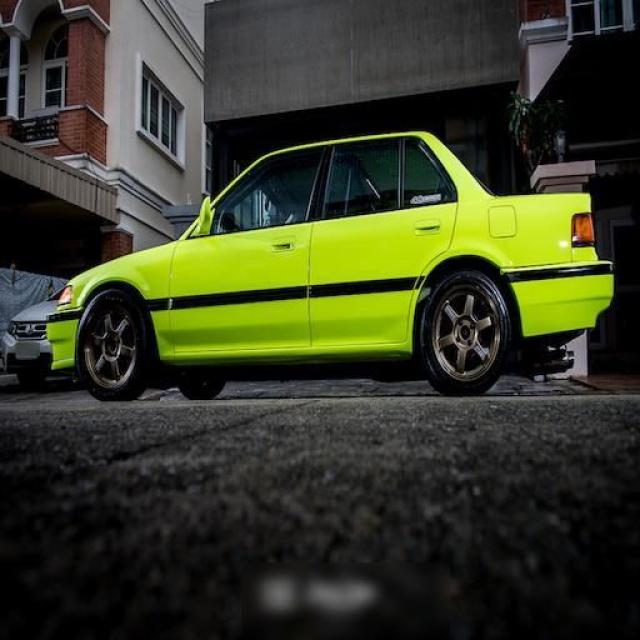back_left_door: (308, 132, 457, 348)
back_left_light: (571, 214, 594, 247)
front_left_door: (170, 140, 331, 352)
front_left_light: (58, 286, 72, 307)
wheel: (77, 273, 512, 402)
